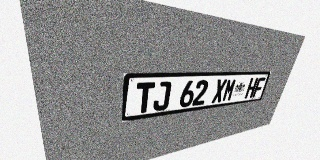2: (192, 80, 209, 106)
6: (179, 80, 197, 108)
F: (252, 77, 266, 98)
H: (244, 78, 258, 99)
J: (152, 81, 172, 111)
M: (221, 78, 237, 102)
T: (135, 82, 155, 114)
X: (211, 79, 227, 103)
